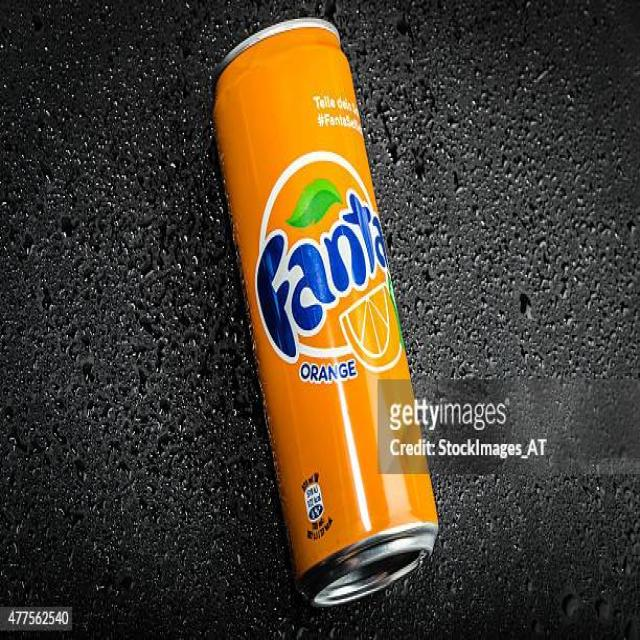fanta: (204, 13, 452, 621)
